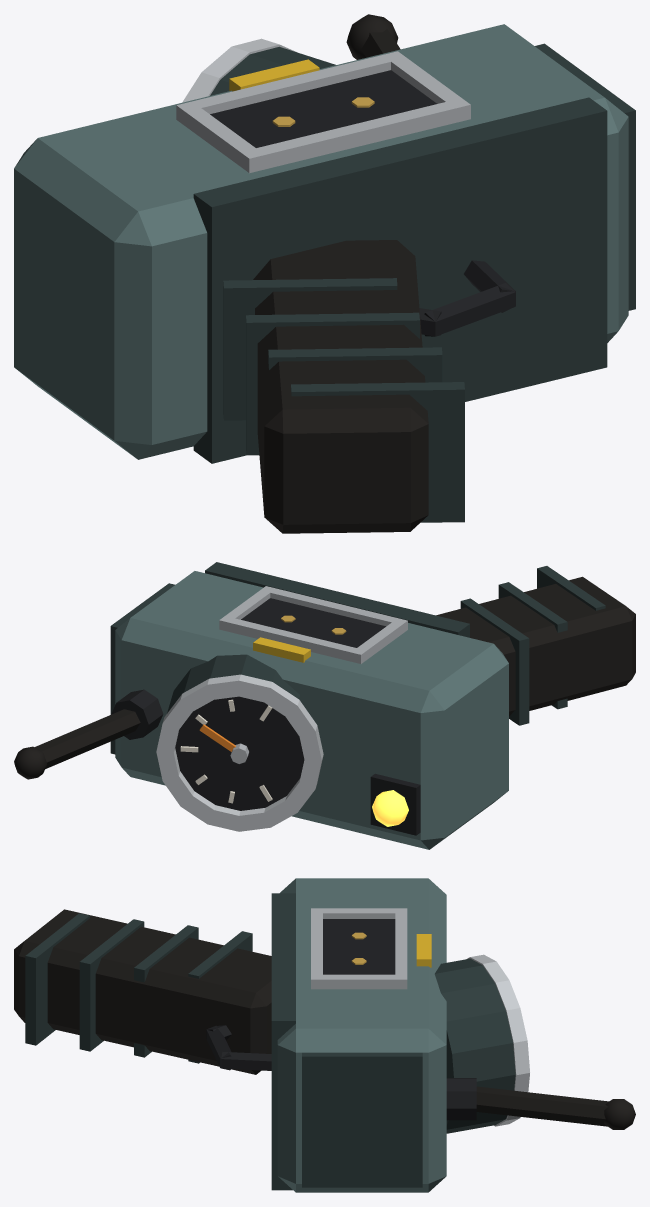
Rendered from receiver_carrier.glb.
3 views of the same model, one above another, from view 1: azimuth 30°, elevation 25°; view 2: azimuth 150°, elevation 25°; view 3: azimuth 270°, elevation 25° (orthographic). The views are drawn at different scales.
Visible parts, largest first — view 1: receiver_carrier; view 2: receiver_carrier; view 3: receiver_carrier.
Boxes of the visible parts, x1=… form: receiver_carrier: x1=14, y1=14, x2=635, y2=533; receiver_carrier: x1=14, y1=562, x2=635, y2=849; receiver_carrier: x1=14, y1=878, x2=635, y2=1192.
Size of the model in its own units: 0.1384 by 0.0645 by 0.2063.
